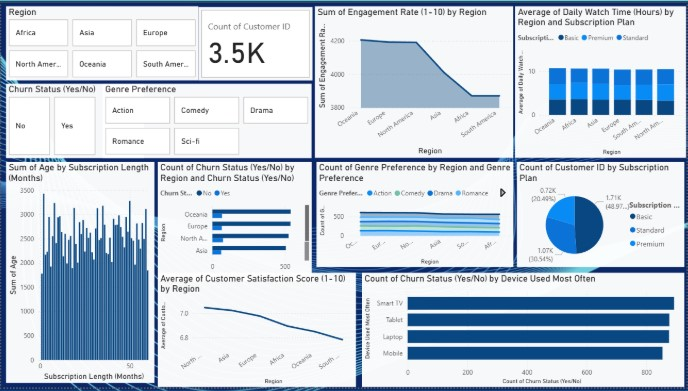

This screenshot's page, from the dashboard's own definition file:
{"tool":"powerbi","page":{"name":"Dashboard1","canvas":[1280,720],"ordinal":0},"visuals":[{"type":"clusteredBarChart","fields":{"Category":["Netflix Engagement Dataset.Region"],"Series":["Netflix Engagement Dataset.Churn Status (Yes/No)"],"Y":["CountNonNull(Netflix Engagement Dataset.Churn Status (Yes/No))"]},"box":[292.2,298.3,287.7,222.6],"z":0},{"type":"columnChart","fields":{"Category":["Netflix Engagement Dataset.Region"],"Y":["Avg(Netflix Engagement Dataset.Daily Watch Time (Hours))"],"Series":["Netflix Engagement Dataset.Subscription Plan"]},"box":[960,7.6,319.5,283.2],"z":1000},{"type":"barChart","fields":{"Category":["Netflix Engagement Dataset.Device Used Most Often"],"Y":["CountNonNull(Netflix Engagement Dataset.Churn Status (Yes/No))"]},"box":[673.8,505.7,602.7,213.5],"z":2000},{"type":"clusteredColumnChart","fields":{"Category":["Netflix Engagement Dataset.Subscription Length (Months)"],"Y":["Sum(Netflix Engagement Dataset.Age)"]},"box":[9.1,298.3,277.1,413.4],"z":3000},{"type":"areaChart","fields":{"Category":["Netflix Engagement Dataset.Region"],"Y":["Sum(Netflix Engagement Dataset.Engagement Rate (1-10))"]},"box":[586,7.6,371,283.2],"z":5000},{"type":"lineChart","fields":{"Category":["Netflix Engagement Dataset.Region"],"Y":["Avg(Netflix Engagement Dataset.Customer Satisfaction Score (1-10))"]},"box":[292.2,505.7,371,213.5],"z":5500},{"type":"stackedAreaChart","fields":{"Category":["Netflix Engagement Dataset.Region"],"Series":["Netflix Engagement Dataset.Genre Preference"],"Y":["CountNonNull(Netflix Engagement Dataset.Genre Preference)"]},"box":[589,298.3,368,196.8],"z":6000},{"type":"pieChart","fields":{"Category":["Netflix Engagement Dataset.Subscription Plan"],"Y":["CountNonNull(Netflix Engagement Dataset.Customer ID)"]},"box":[963,298.3,313.4,196.8],"z":7000},{"type":"advancedSlicerVisual","fields":{"Values":["Netflix Engagement Dataset.Churn Status (Yes/No)"]},"box":[9.1,151.4,257.4,139.3],"z":8000},{"type":"advancedSlicerVisual","fields":{"Values":["Netflix Engagement Dataset.Region"]},"box":[9,7.5,359.5,138.7],"z":9000},{"type":"advancedSlicerVisual","fields":{"Values":["Netflix Engagement Dataset.Genre Preference"]},"box":[189.3,151.4,390.7,139.3],"z":10000},{"type":"cardVisual","fields":{"Data":["CountNonNull(Netflix Engagement Dataset.Customer ID)"]},"box":[368.5,9,213.3,137.2],"z":10001}]}

Visuals, with their boxes in screenshot pixels (x1, y1, x2, y2), scaled from the page's 1280x720 canvas onto the 688x391 screenshot:
clusteredBarChart - Netflix Engagement Dataset.Region x Netflix Engagement Dataset.Churn Status (Yes/No): l=157, t=162, r=312, b=283
columnChart - Netflix Engagement Dataset.Region x Avg(Netflix Engagement Dataset.Daily Watch Time (Hours)): l=516, t=4, r=687, b=158
barChart - Netflix Engagement Dataset.Device Used Most Often x CountNonNull(Netflix Engagement Dataset.Churn Status (Yes/No)): l=362, t=275, r=686, b=390
clusteredColumnChart - Netflix Engagement Dataset.Subscription Length (Months) x Sum(Netflix Engagement Dataset.Age): l=5, t=162, r=154, b=386
areaChart - Netflix Engagement Dataset.Region x Sum(Netflix Engagement Dataset.Engagement Rate (1-10)): l=315, t=4, r=514, b=158
lineChart - Netflix Engagement Dataset.Region x Avg(Netflix Engagement Dataset.Customer Satisfaction Score (1-10)): l=157, t=275, r=356, b=390
stackedAreaChart - Netflix Engagement Dataset.Region x Netflix Engagement Dataset.Genre Preference: l=317, t=162, r=514, b=269
pieChart - Netflix Engagement Dataset.Subscription Plan x CountNonNull(Netflix Engagement Dataset.Customer ID): l=518, t=162, r=686, b=269
advancedSlicerVisual - Netflix Engagement Dataset.Churn Status (Yes/No): l=5, t=82, r=143, b=158
advancedSlicerVisual - Netflix Engagement Dataset.Region: l=5, t=4, r=198, b=79
advancedSlicerVisual - Netflix Engagement Dataset.Genre Preference: l=102, t=82, r=312, b=158
cardVisual - CountNonNull(Netflix Engagement Dataset.Customer ID): l=198, t=5, r=313, b=79
